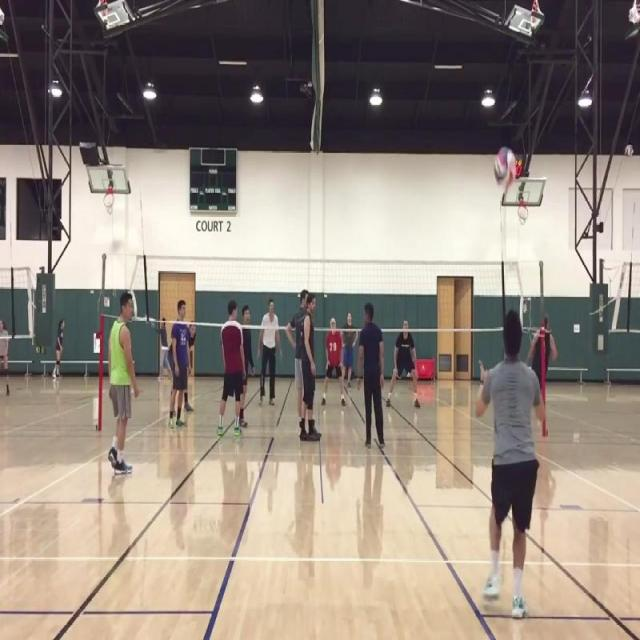volleyball: (493, 147, 516, 189)
